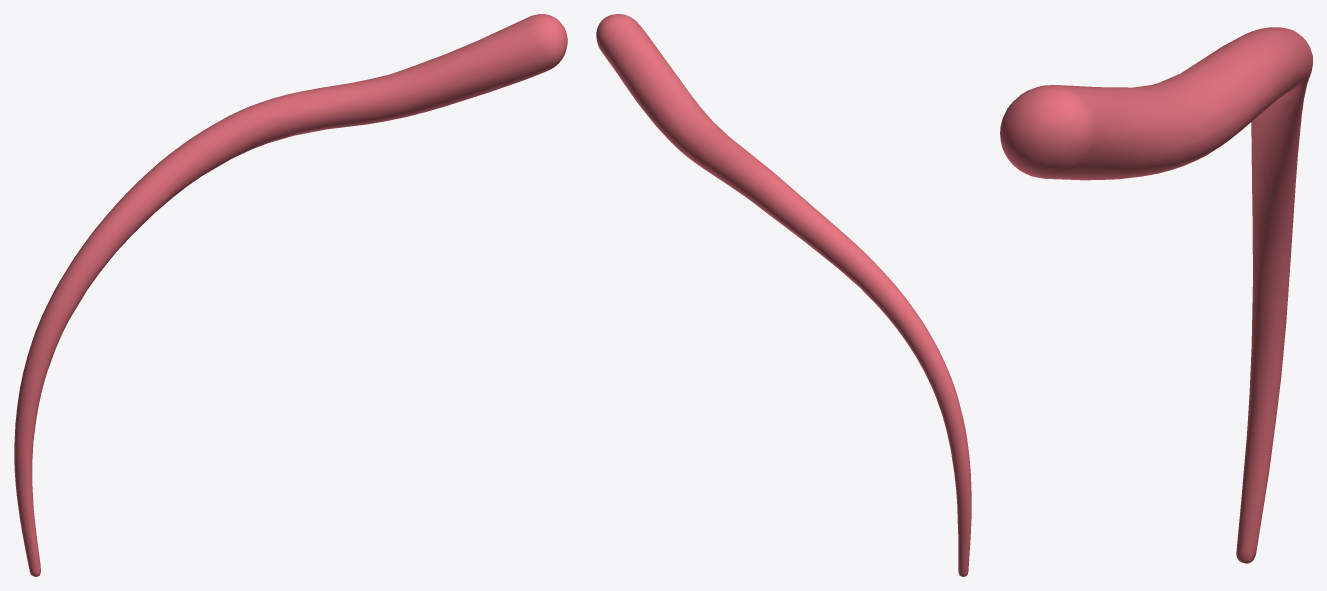
The model's file is fma15796_fj3119.glb.
3 views of the same model, side by side, from view 1: azimuth 30°, elevation 25°; view 2: azimuth 150°, elevation 25°; view 3: azimuth 270°, elevation 25° (orthographic). The views are drawn at different scales.
Parts seen in each view (by area): view 1: FMA15796_FJ3119; view 2: FMA15796_FJ3119; view 3: FMA15796_FJ3119.
Boxes of the visible parts, x1,y1,x2,y2 form: FMA15796_FJ3119: (14,14,567,576); FMA15796_FJ3119: (596,14,971,576); FMA15796_FJ3119: (1000,27,1312,563).
Size of the model in its own units: 0.047 by 0.0453 by 0.015.
